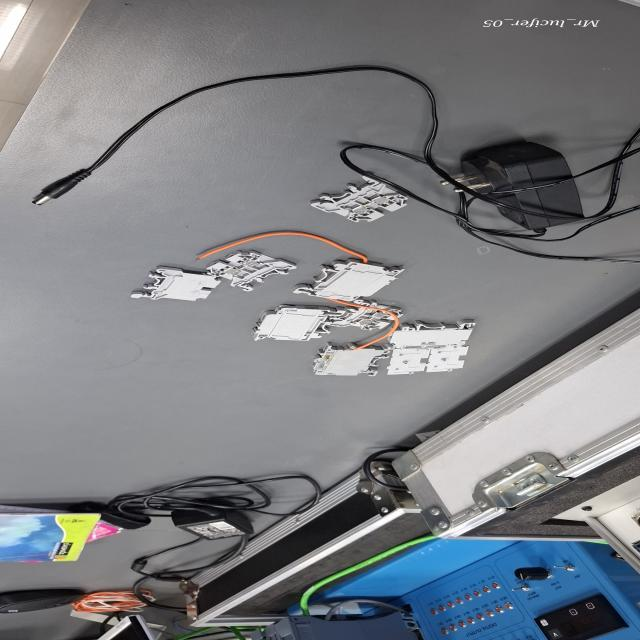Inverted: (128, 263, 222, 303)
Pass: (304, 173, 410, 224), (205, 250, 302, 292), (323, 296, 412, 334)
